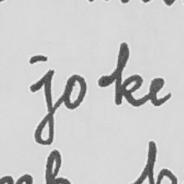e: (146, 74, 173, 107)
j: (28, 60, 58, 148)
k: (111, 40, 145, 110)
o: (59, 72, 88, 110)
